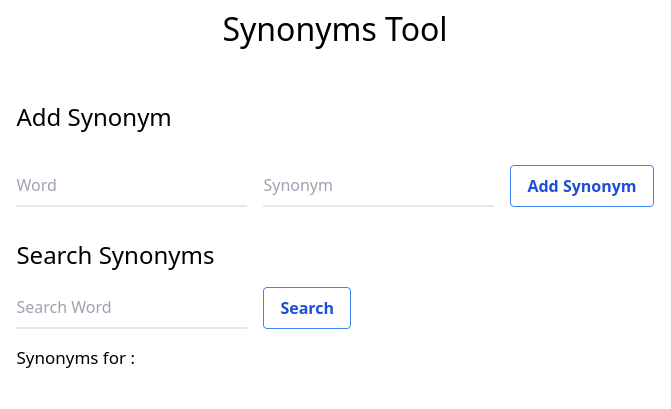
Test: Home Component › displays an error if the add synonym fields are empty
// Click on the Add button without entering word or synonym
Click the button "Add Synonym". click: coordinates (582, 186)
box: [510,165,654,207]
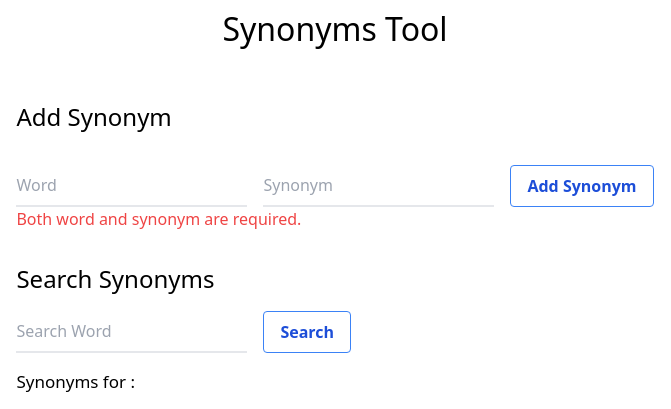
Check: the text "Both word and synonym are required." is shown, box [16,208,301,230]
